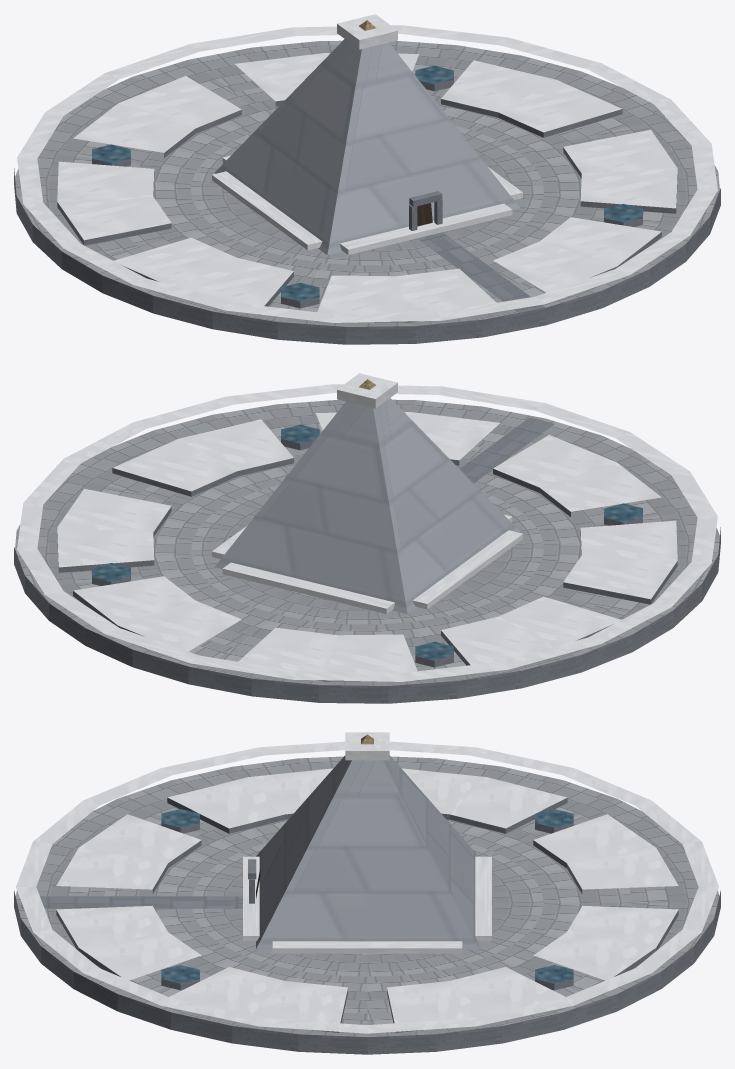
File: pyramid_small_lod1.glb
The picture shows the model from 3 angles, top to bottom: view 1: azimuth 30°, elevation 25°; view 2: azimuth 150°, elevation 25°; view 3: azimuth 270°, elevation 25°; orthographic projection.
Visible parts, largest first — view 1: pyramid_small_lod1; view 2: pyramid_small_lod1; view 3: pyramid_small_lod1.
Boxes of the visible parts, left/top/right/bottom form: pyramid_small_lod1: left=14, top=14, right=720, bottom=344; pyramid_small_lod1: left=14, top=373, right=720, bottom=703; pyramid_small_lod1: left=14, top=732, right=720, bottom=1054.
Bounding box in the file's own units: 1.88 × 0.512 × 1.9.
1 material, 1 textured.
